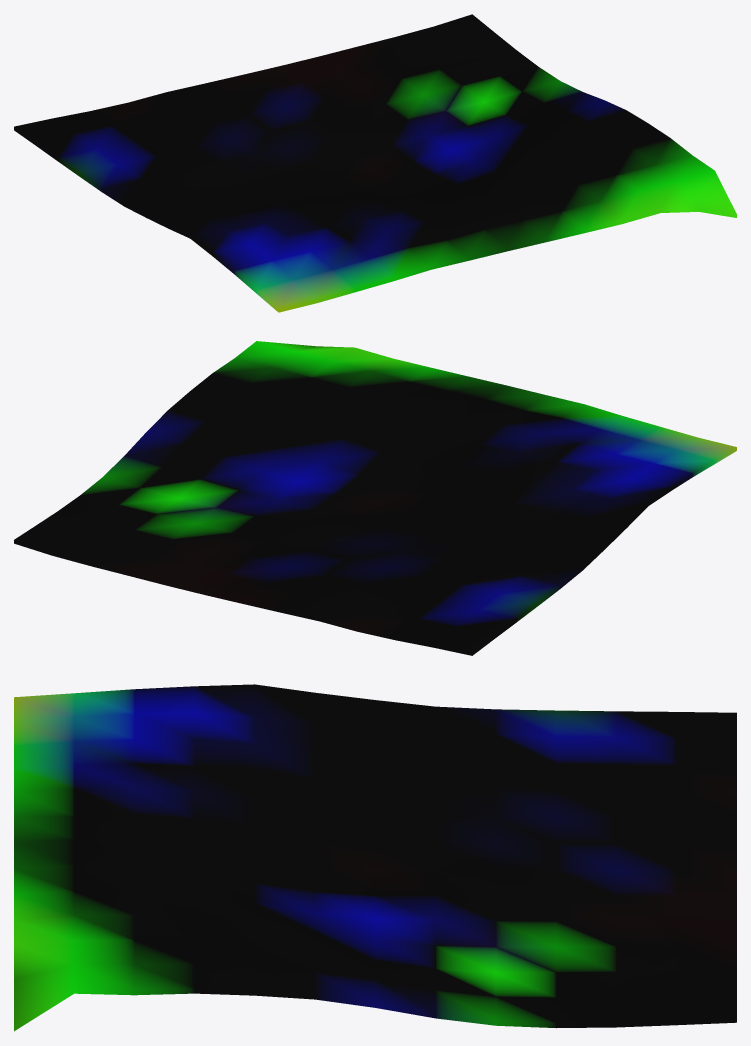
Rendered from coast_2_8.glb.
The picture shows the model from 3 angles, top to bottom: view 1: azimuth 30°, elevation 25°; view 2: azimuth 150°, elevation 25°; view 3: azimuth 270°, elevation 25°; orthographic projection. The views are drawn at different scales.
Visible parts, largest first — view 1: terrain; view 2: terrain; view 3: terrain.
Boxes of the visible parts, x1,y1,x2,y2 form: terrain: [14, 14, 736, 312]; terrain: [14, 341, 736, 655]; terrain: [14, 684, 736, 1031].
Bounding box in the file's own units: 192 × 12.6 × 192.
